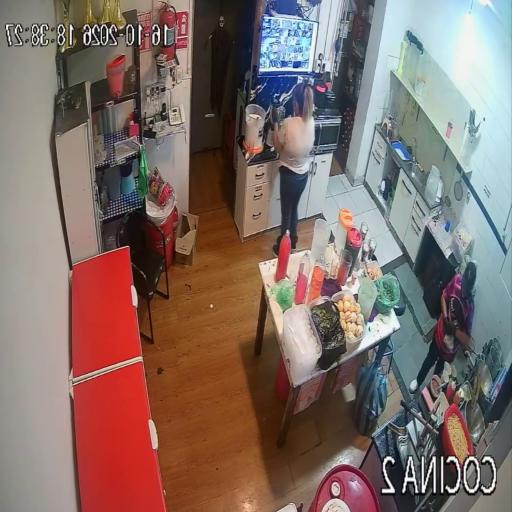Balde: (244, 104, 265, 154)
Jarra1: (345, 227, 362, 276)
Jarra2: (334, 208, 354, 256)
Jarra3: (358, 277, 377, 321)
Jarra4: (310, 219, 330, 265)
Licuadora2: (265, 99, 280, 150)
Microondas: (314, 116, 342, 154)
Persona2: (271, 83, 314, 254)
Persona5: (410, 262, 477, 390)
Taper: (365, 261, 383, 281)
Taper2: (320, 290, 366, 353)
Taper3: (310, 297, 346, 370)
Taper4: (282, 304, 322, 385)
